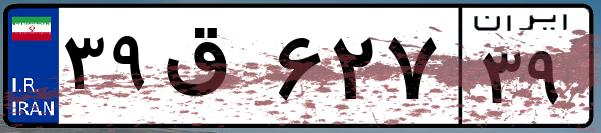2: (330, 28, 385, 110)
3: (57, 26, 110, 100), (475, 38, 525, 113)
6: (270, 28, 330, 110)
7: (385, 28, 445, 110)
9: (525, 38, 570, 115), (110, 28, 158, 98)
ق: (158, 20, 270, 120)
